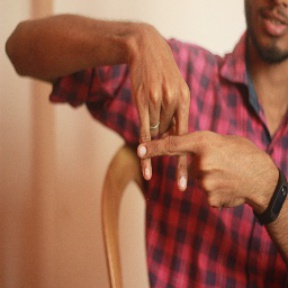H: (111, 74, 209, 203)
